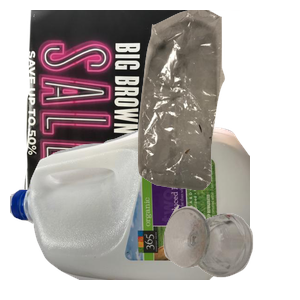glass: (161, 202, 300, 300)
paper: (22, 10, 225, 190)
plastic: (10, 120, 250, 300)
trash: (114, 10, 300, 190)
